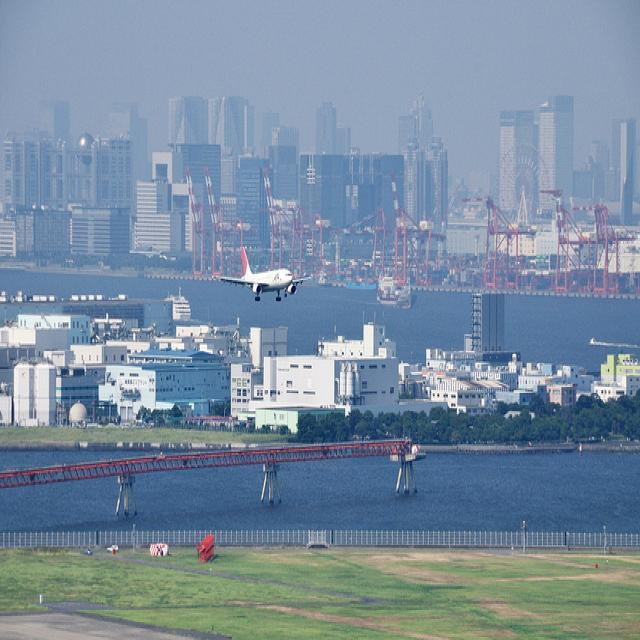airplane: (214, 243, 314, 305)
